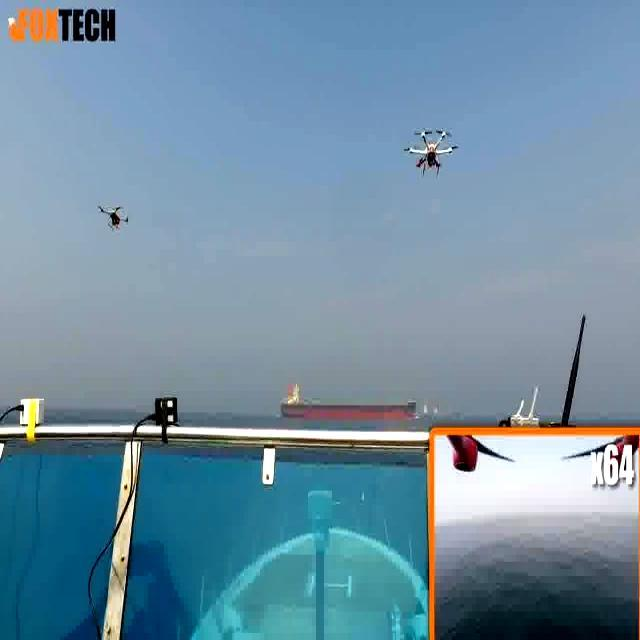drone: (399, 115, 465, 185), (90, 199, 132, 237)
